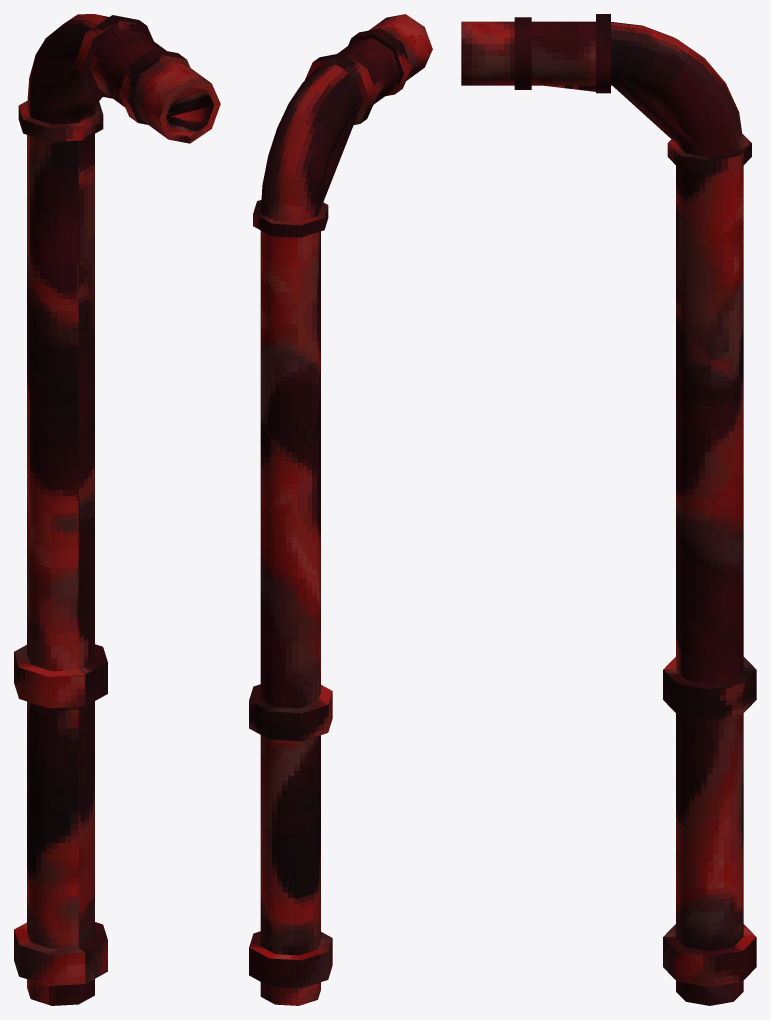
Rendered from item_butcherpipe_blood.glb.
The picture shows the model from 3 angles, left to right: view 1: azimuth 30°, elevation 25°; view 2: azimuth 150°, elevation 25°; view 3: azimuth 270°, elevation 25°; orthographic projection. The views are drawn at different scales.
Parts seen in each view (by area): view 1: ButcherPipe; view 2: ButcherPipe; view 3: ButcherPipe.
Part boxes in pixels (box(x1,y1,x2,y2)): ButcherPipe: box(14, 14, 220, 1005); ButcherPipe: box(249, 14, 432, 1005); ButcherPipe: box(461, 14, 756, 1005).
Size of the model in its own units: 0.0438 by 0.5048 by 0.1383.
1 material, 1 textured.
